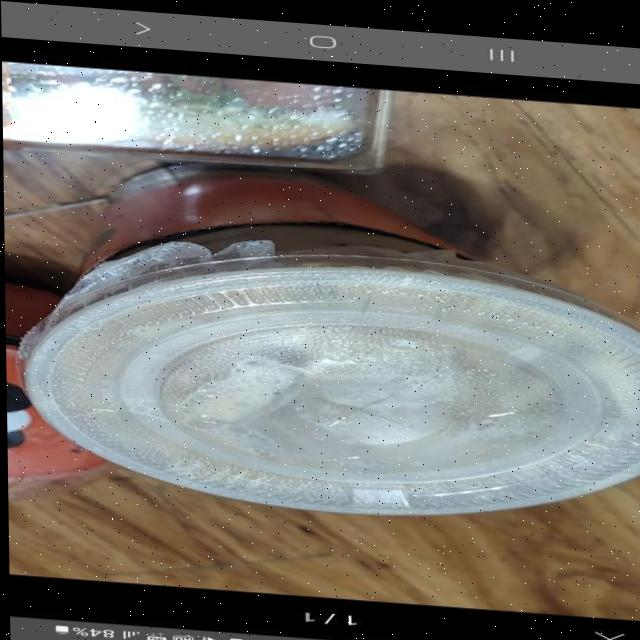cup: (1, 99, 640, 519)
